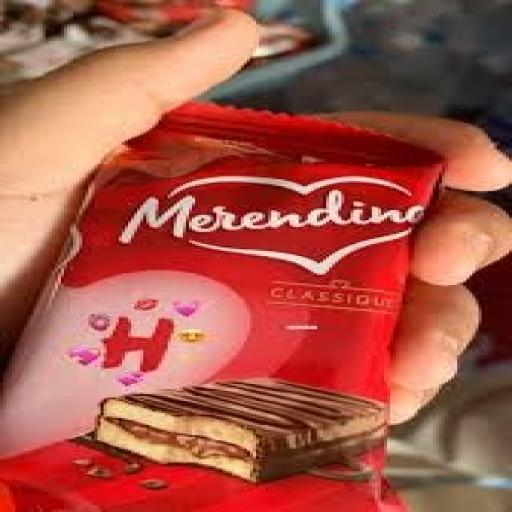merendina: (84, 83, 474, 512)
